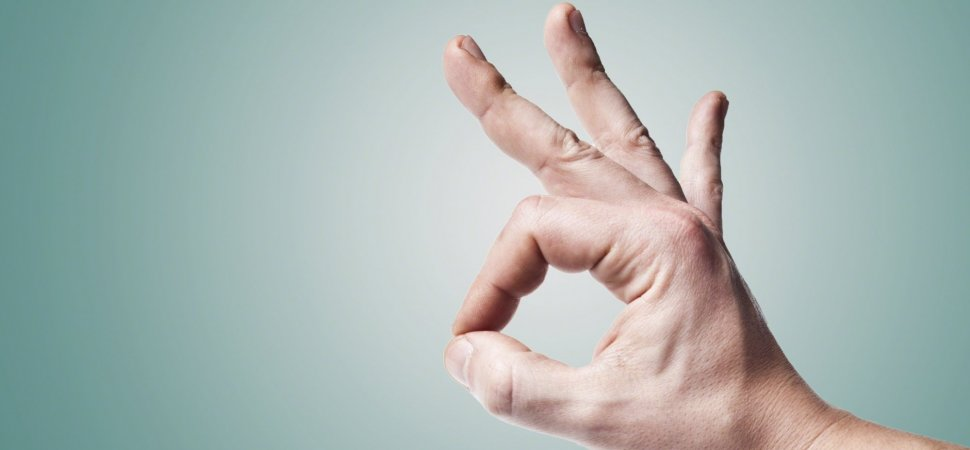hand: (432, 1, 808, 450)
